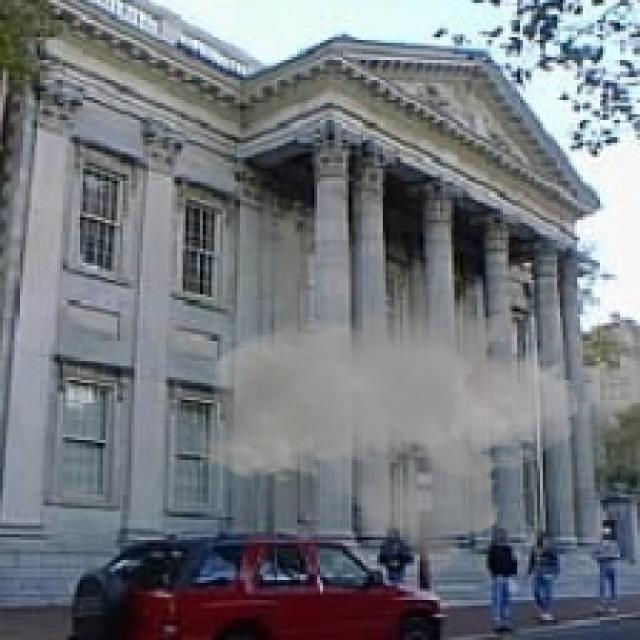Smoke: (195, 197, 580, 583)
